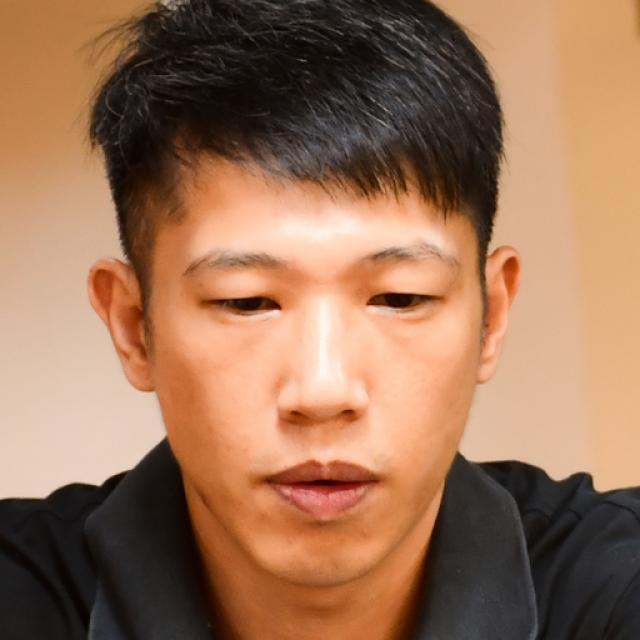neutral: (152, 154, 476, 584)
